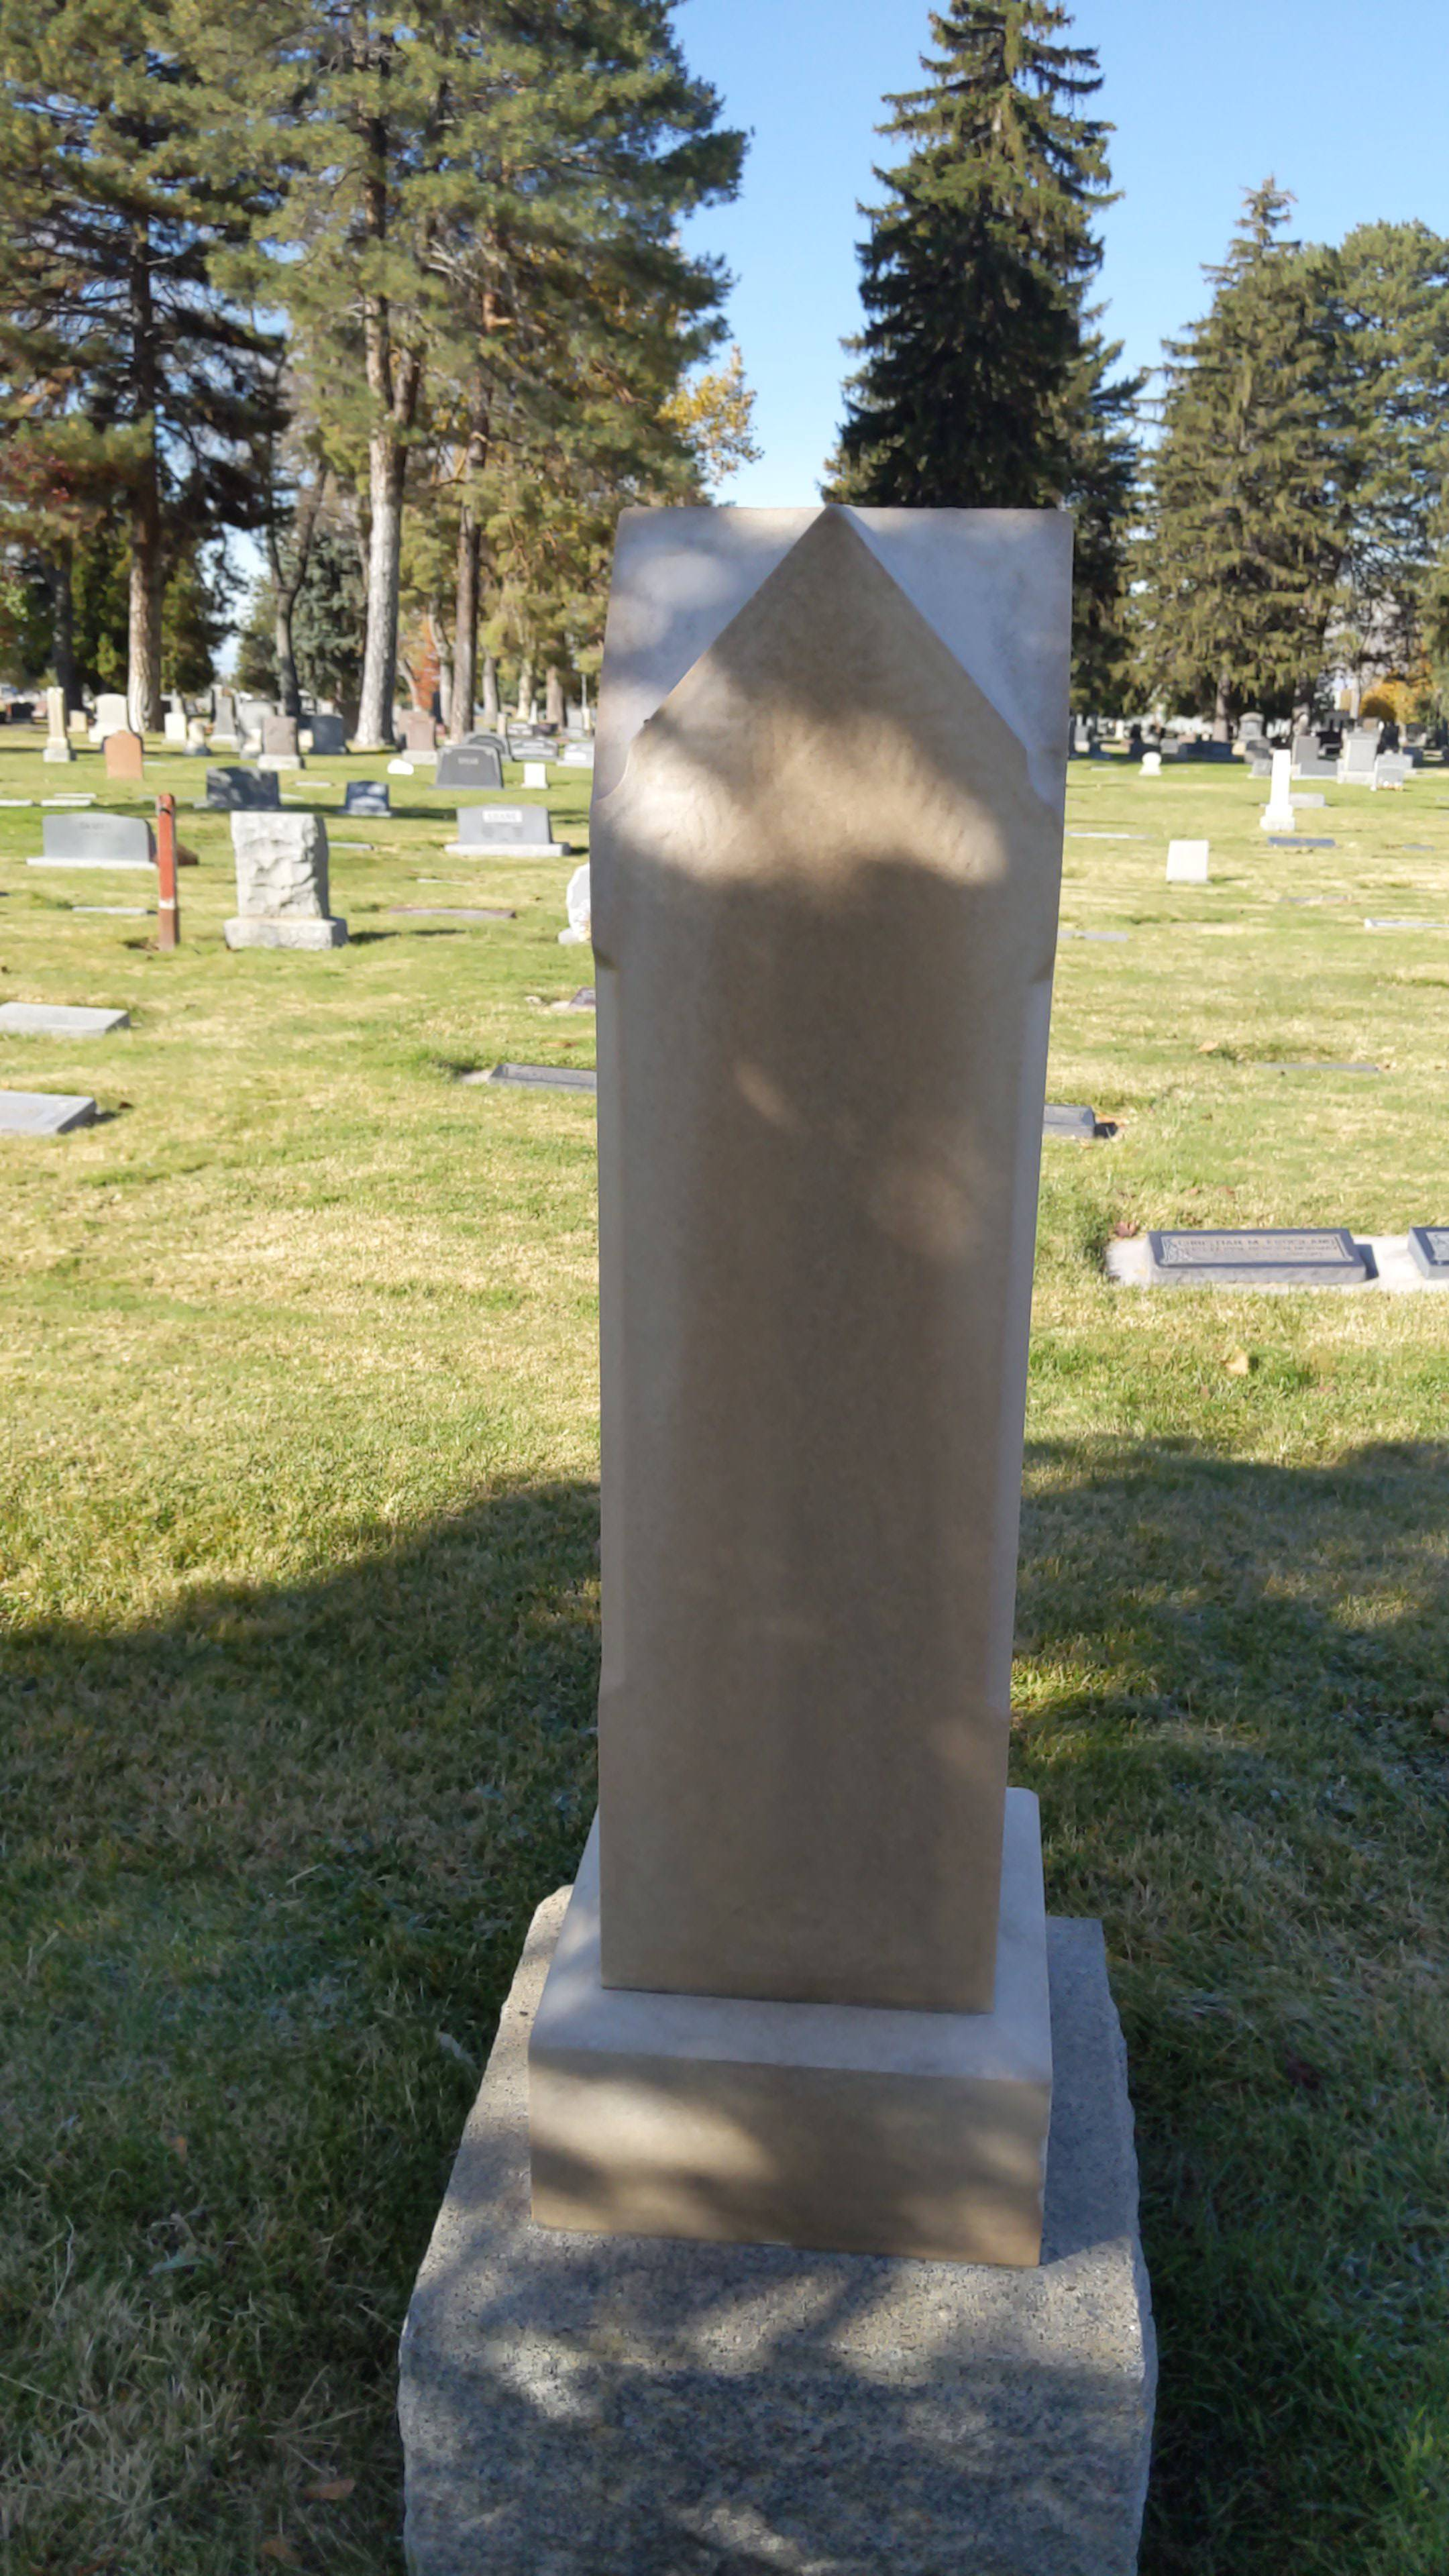obelisk: (536, 502, 1049, 2261)
